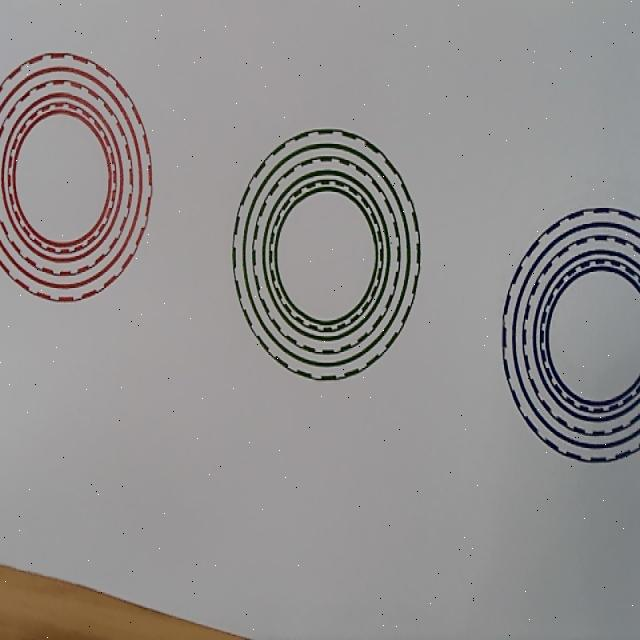g: (232, 126, 421, 381)
